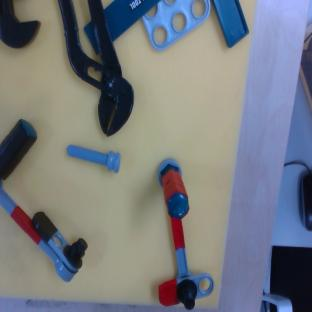non_pass: (0, 116, 98, 295)
pass: (159, 160, 214, 310)
